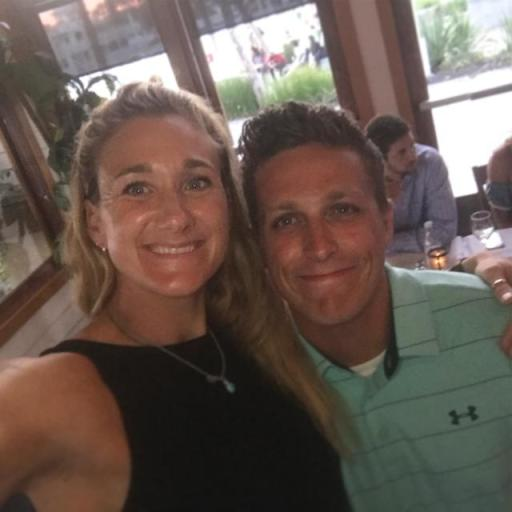Under Armour: (446, 401, 483, 429)
